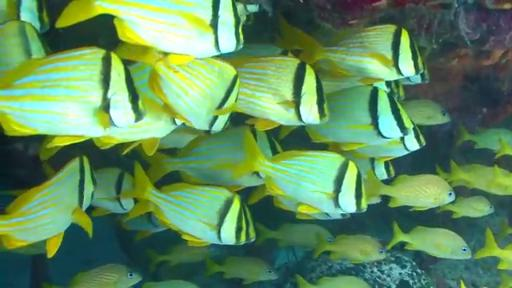Fish: (0, 48, 145, 146), (56, 0, 243, 63), (121, 164, 255, 245), (0, 156, 95, 257), (279, 17, 424, 83), (235, 141, 367, 213), (94, 63, 180, 155), (229, 56, 328, 130), (140, 58, 239, 132), (147, 126, 263, 188), (300, 25, 424, 83), (306, 86, 414, 150), (93, 98, 178, 155), (329, 126, 425, 162), (388, 223, 471, 259), (378, 175, 455, 210), (0, 20, 48, 76), (436, 160, 511, 195), (313, 235, 387, 263), (92, 168, 134, 215), (256, 224, 333, 249), (207, 257, 278, 284), (147, 244, 214, 271), (274, 196, 350, 219), (68, 264, 142, 287), (0, 0, 49, 32), (475, 228, 511, 269), (341, 152, 395, 179), (120, 212, 168, 240), (456, 127, 511, 151), (400, 100, 451, 125), (439, 196, 494, 218), (158, 125, 205, 150), (220, 44, 290, 60), (296, 275, 371, 287), (321, 76, 362, 94), (398, 63, 430, 85), (0, 241, 46, 255), (373, 80, 405, 100), (142, 280, 199, 287), (498, 220, 511, 240), (499, 272, 511, 287)
